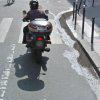Motorcycle: (17, 5, 62, 71)
